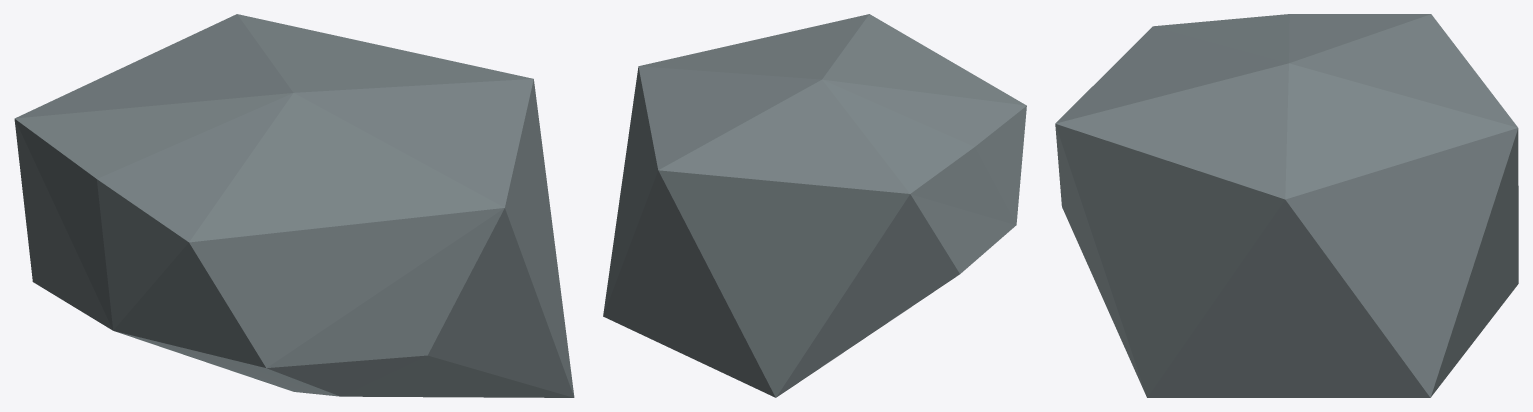
File: Rock_01.fbx
The picture shows the model from 3 angles, left to right: view 1: azimuth 30°, elevation 25°; view 2: azimuth 150°, elevation 25°; view 3: azimuth 270°, elevation 25°; orthographic projection. The views are drawn at different scales.
Visible parts, largest first — view 1: Rock_01; view 2: Rock_01; view 3: Rock_01.
Boxes of the visible parts, bbox=[...] form: Rock_01: bbox=[14, 14, 574, 397]; Rock_01: bbox=[603, 14, 1026, 397]; Rock_01: bbox=[1055, 14, 1518, 397].
Size of the model in its own units: 0.6378 by 0.3988 by 0.6521.
